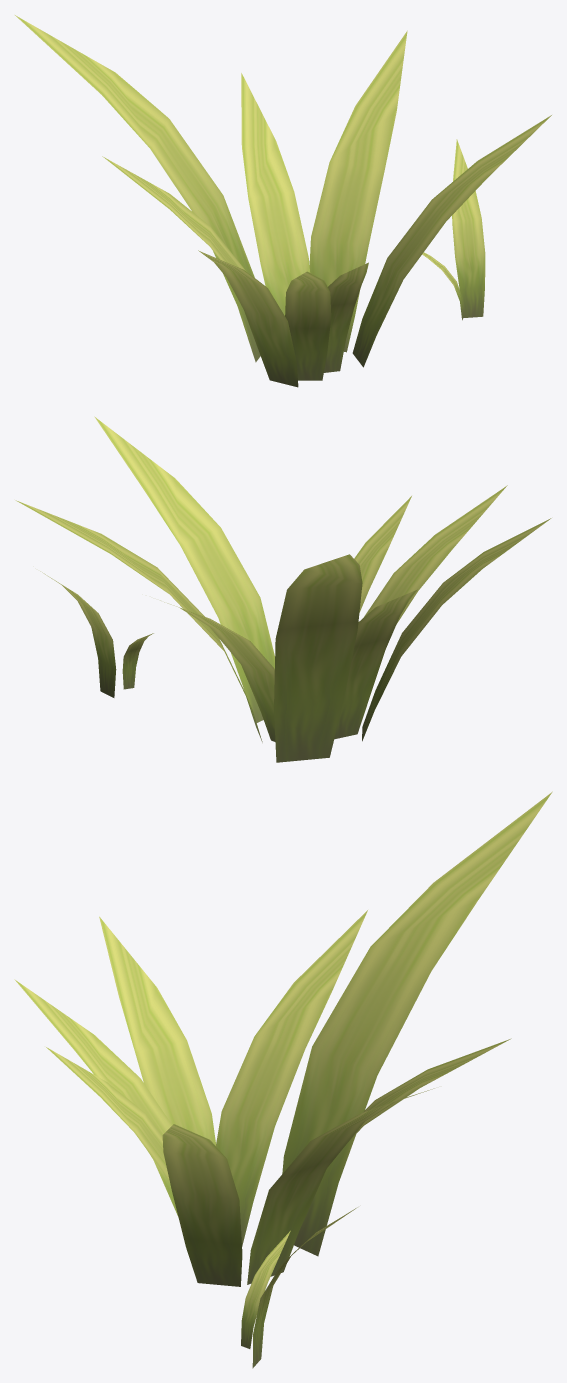
Rendered from grass2.fbx.
3 renders of one model, top to bottom at view 1: azimuth 30°, elevation 25°; view 2: azimuth 150°, elevation 25°; view 3: azimuth 270°, elevation 25°, orthographic. The views are drawn at different scales.
Parts seen in each view (by area): view 1: Plane.003; view 2: Plane.003; view 3: Plane.003.
Part boxes in pixels (left/top/right/bottom): Plane.003: left=15, top=15, right=551, bottom=387; Plane.003: left=15, top=416, right=551, bottom=762; Plane.003: left=14, top=791, right=552, bottom=1368.
Bounding box in the file's own units: 92.74 × 68.5 × 90.95.
